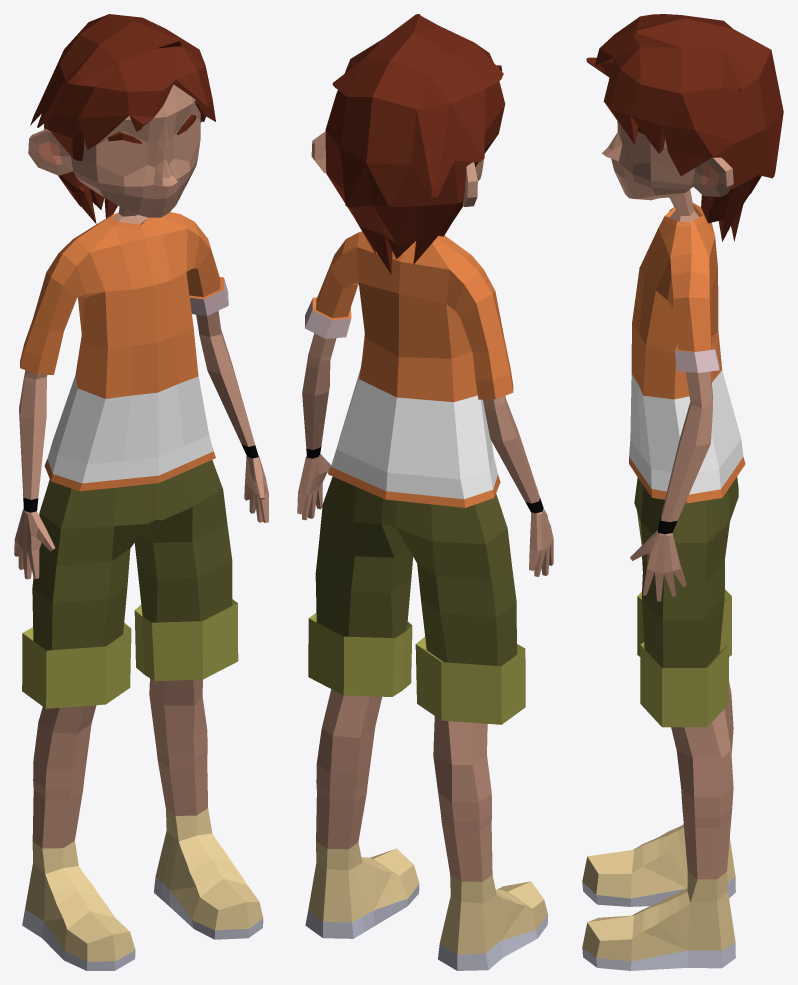
Rendered from Ragazzino.fbx.
3 views of the same model, side by side, from view 1: azimuth 30°, elevation 25°; view 2: azimuth 150°, elevation 25°; view 3: azimuth 270°, elevation 25° (orthographic).
Visible parts, largest first — view 1: Corpo, Capelli; view 2: Corpo, Capelli; view 3: Corpo, Capelli.
Part boxes in pixels (bbox=[...]): Corpo: bbox=[14, 84, 268, 970]; Capelli: bbox=[30, 14, 215, 224]; Corpo: bbox=[297, 63, 553, 970]; Capelli: bbox=[325, 14, 505, 274]; Corpo: bbox=[582, 84, 745, 970]; Capelli: bbox=[586, 14, 783, 241].
Size of the model in its own units: 65.22 by 234 by 47.
